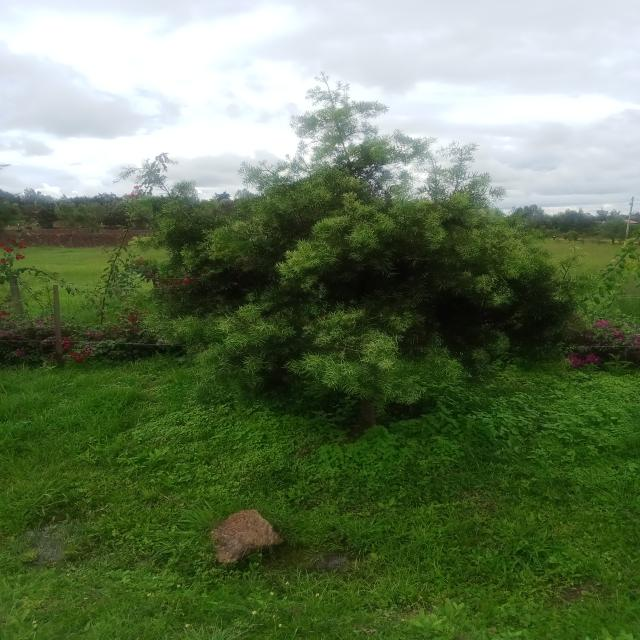Podocarpus falcatus: (153, 75, 574, 432)
